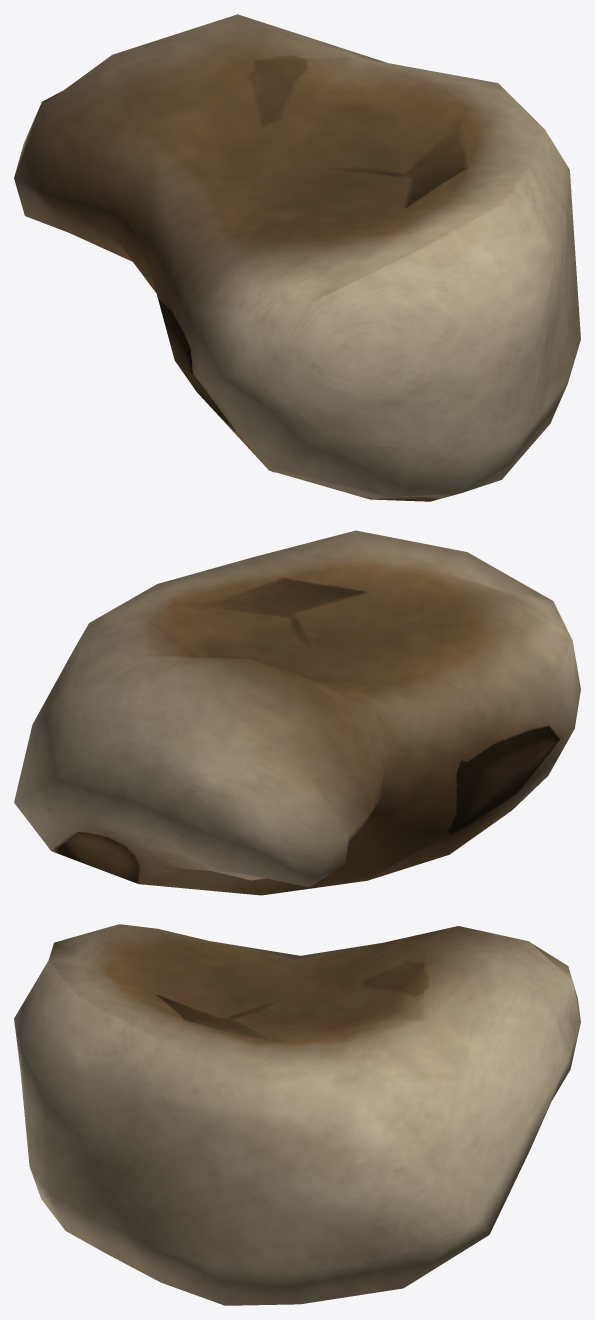
The model's file is Central_Tarsal.glb.
3 views of the same model, one above another, from view 1: azimuth 30°, elevation 25°; view 2: azimuth 150°, elevation 25°; view 3: azimuth 270°, elevation 25° (orthographic). The views are drawn at different scales.
Visible parts, largest first — view 1: Central_Tarsal_Right1:Group64455; view 2: Central_Tarsal_Right1:Group64455; view 3: Central_Tarsal_Right1:Group64455.
Boxes of the visible parts, x1,y1,x2,y2 form: Central_Tarsal_Right1:Group64455: (14, 14, 580, 501); Central_Tarsal_Right1:Group64455: (14, 530, 580, 895); Central_Tarsal_Right1:Group64455: (14, 924, 580, 1305).
Bounding box in the file's own units: 13.08 × 9.06 × 16.08.
1 material, 1 textured.
